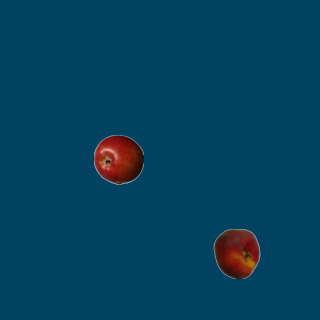Apple Braeburn: (93, 134, 143, 184)
Nectarine Flat: (211, 228, 261, 278)
